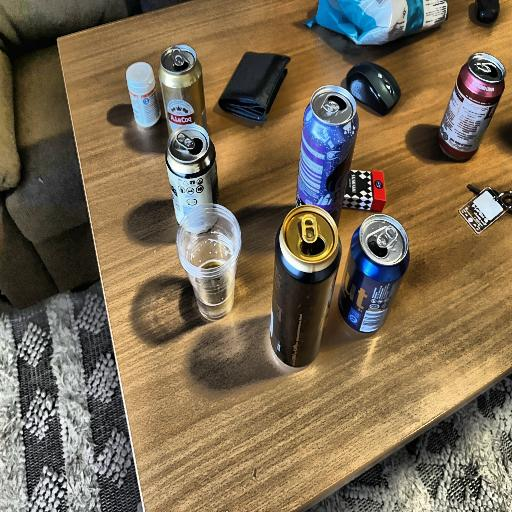A_LeCoq: (158, 43, 210, 129)
karhu: (268, 204, 342, 374)
koff: (438, 52, 504, 166)
koti: (340, 211, 413, 337)
sandels: (161, 129, 225, 236)
